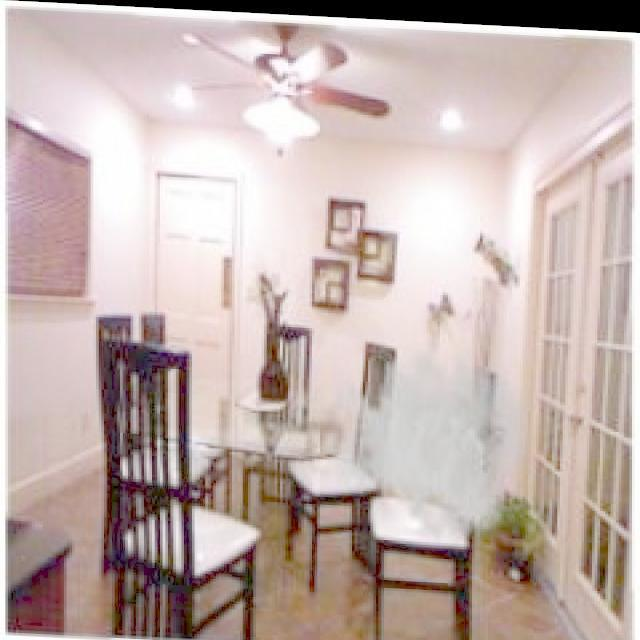Smoke: (344, 301, 524, 548)
